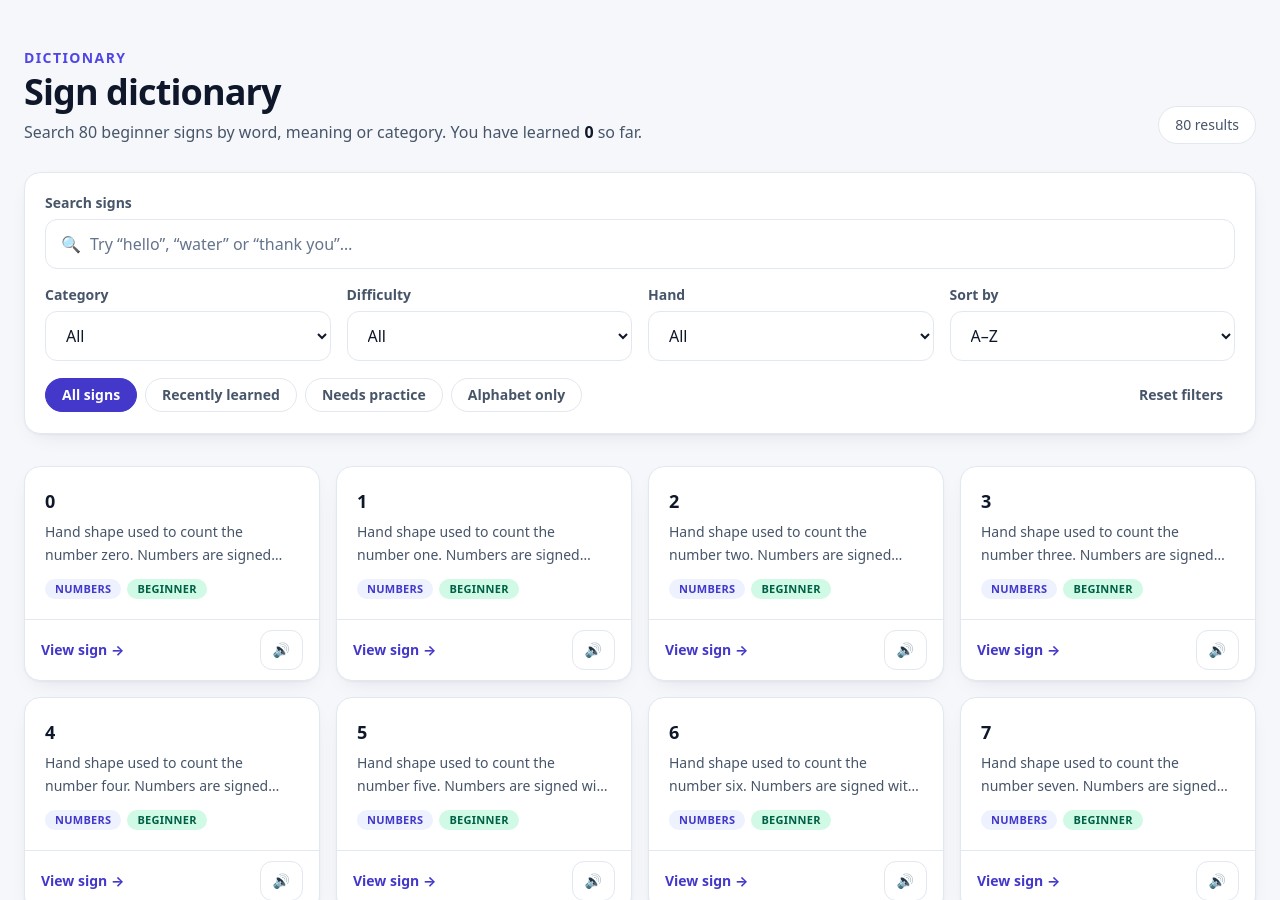
Test: dictionary page › explains an empty result set instead of showing a blank grid
The width and height of the screenshot is (1280, 900).
In the search field labelled "Search signs": point(640, 244) x1=45 y1=219 x2=1235 y2=269, type "qqqqzzzz"
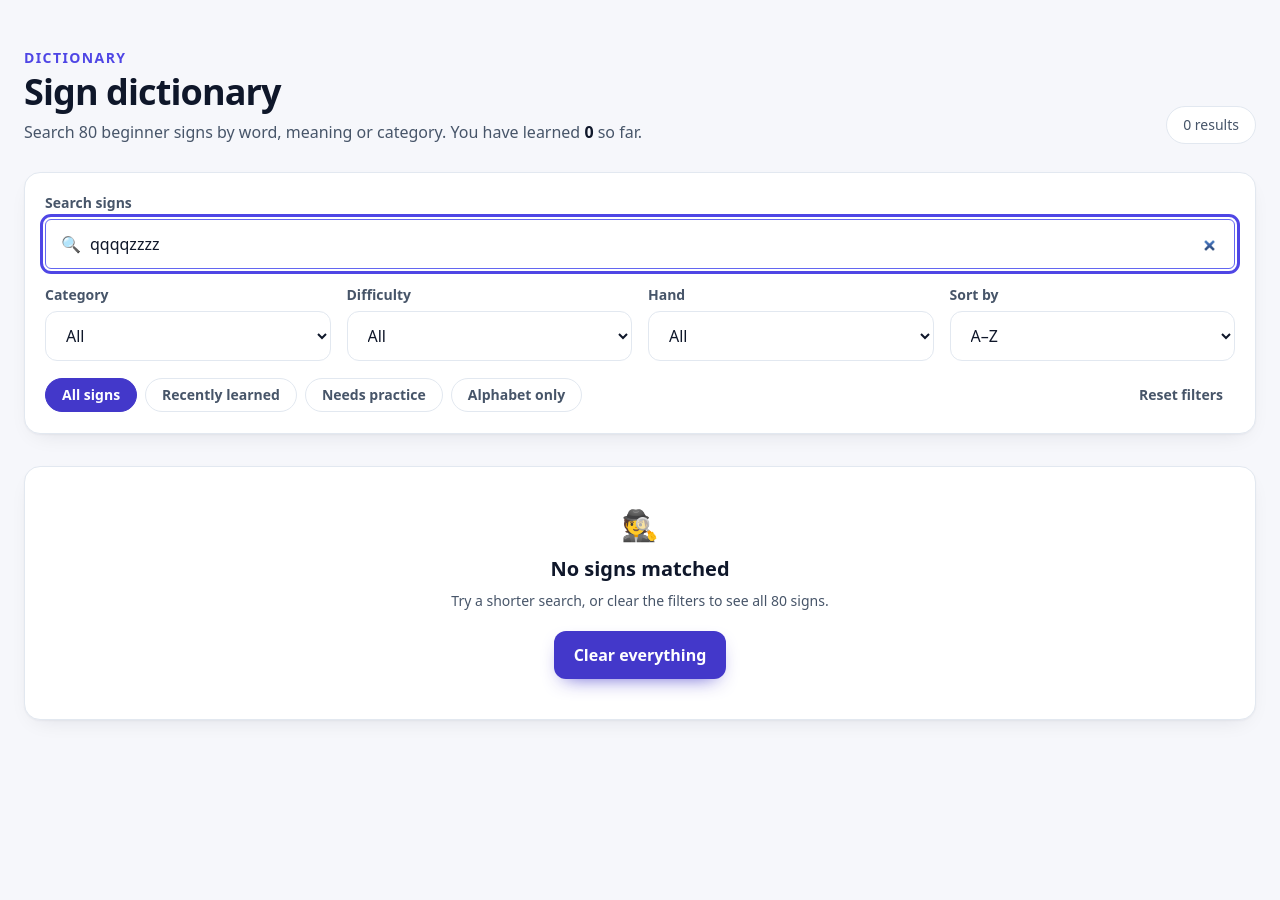
Now the heading "No signs matched" is shown, box x1=550 y1=555 x2=730 y2=582
